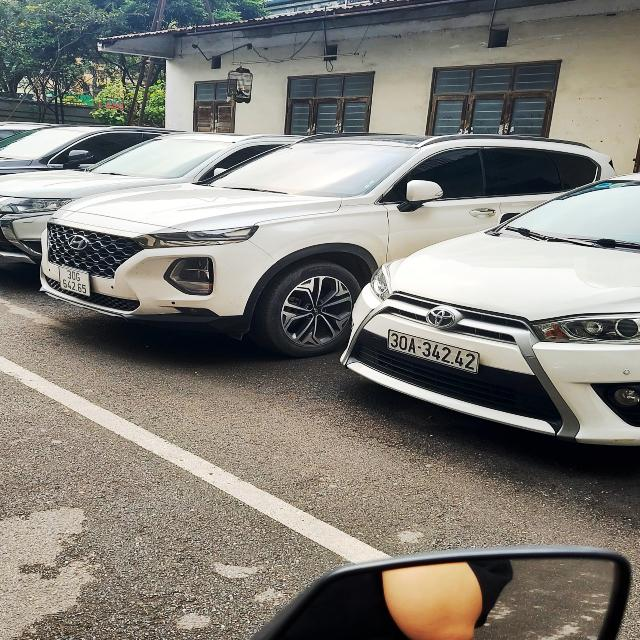license_plate: (388, 330, 481, 374)
